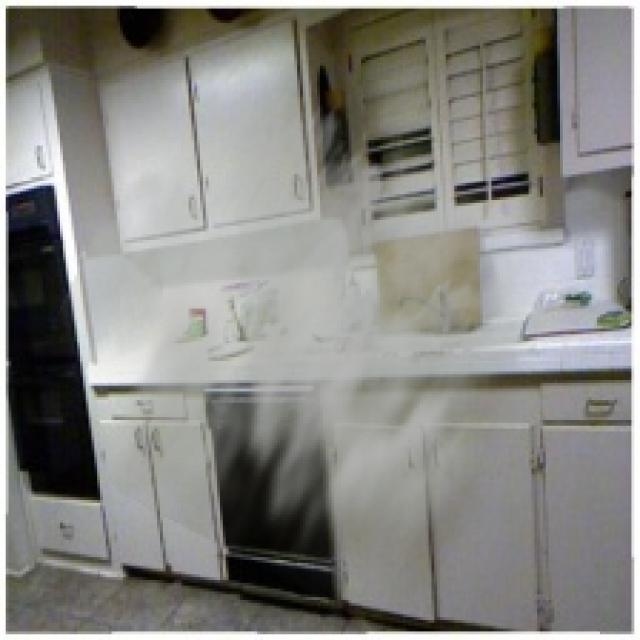smoke: (43, 69, 557, 637)
